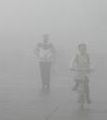person: (68, 42, 97, 110), (33, 32, 58, 95)
